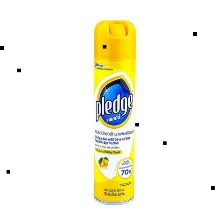aerosol_cans: (88, 16, 139, 208)
